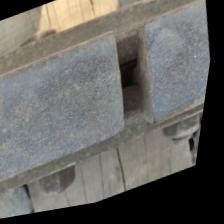person: (48, 1, 214, 167)
